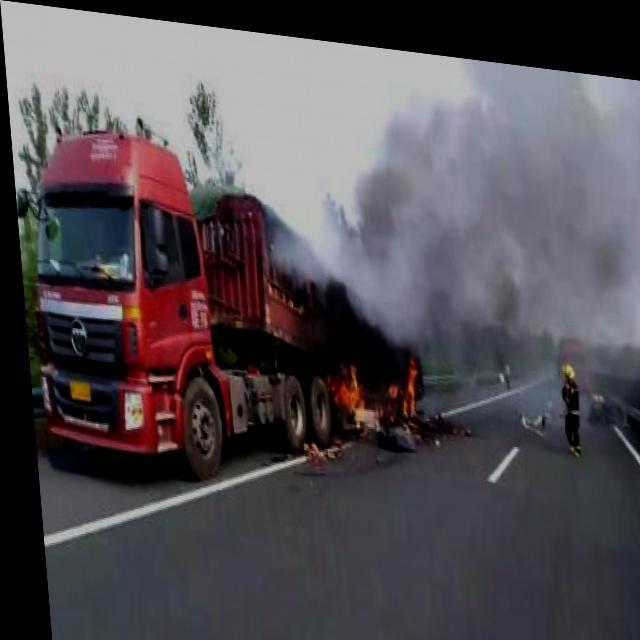Fire: (302, 312, 419, 432)
